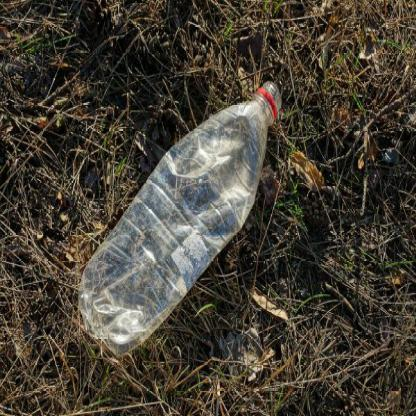bottle: (63, 40, 296, 368)
